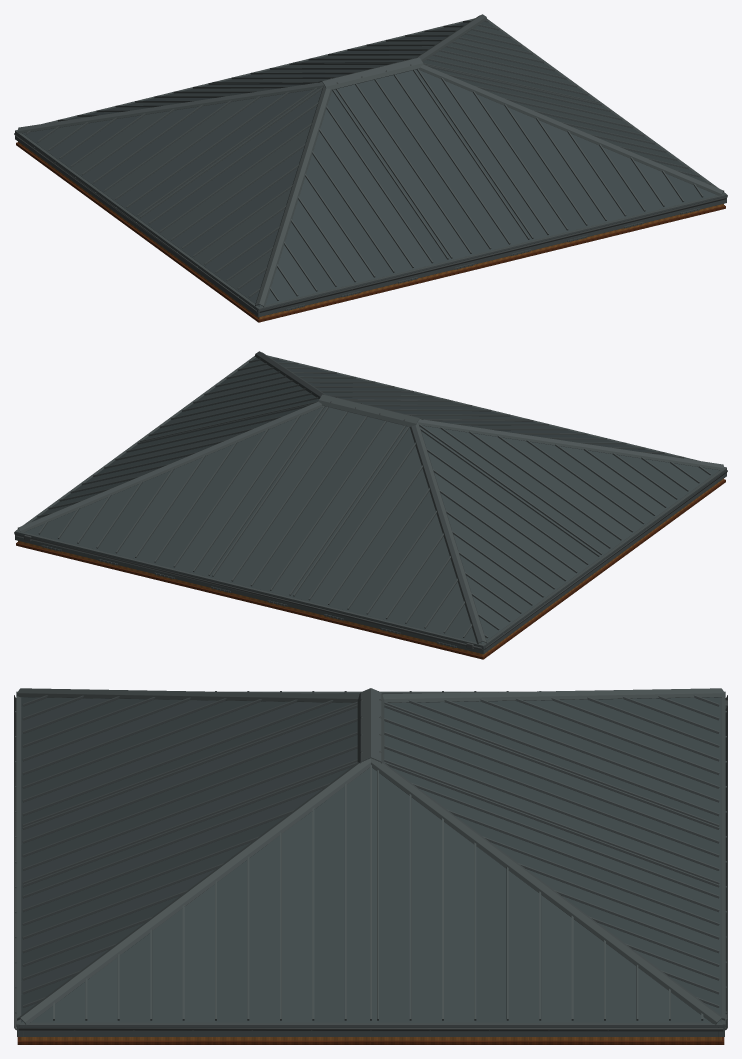
Rendered from Restaurant_RoofRevision.fbx.
The picture shows the model from 3 angles, top to bottom: view 1: azimuth 30°, elevation 25°; view 2: azimuth 150°, elevation 25°; view 3: azimuth 270°, elevation 25°; orthographic projection. The views are drawn at different scales.
Parts seen in each view (by area): view 1: AR_Restaurant, AR_Restaurant_RoofRevision_ContinuousCedarCeiling, AR_Restaurant_RoofRevision_FasciaShadowFrontBack_-1, AR_Restaurant_RoofRevision_FoldedEaveDripFrontBack_-1, AR_Restaurant_RoofRevision_FasciaShadowSide_-1, AR_Restaurant_RoofRevision_OpenGutterFrontBack_-1, AR_Restaurant_RoofRevision_EaveCedarBeamFrontBack_-1, AR_Restaurant_RoofRevision_FoldedEaveDripSide_-1, AR_Restaurant_RoofRevision_FoldedRidgeCap, AR_Restaurant_RoofRevision_OpenGutterSide_-1, AR_Restaurant_RoofRevision_HippedRoofSolidDeck, AR_Restaurant_RoofRevision_EaveCedarBeamSide_-1; view 2: AR_Restaurant, AR_Restaurant_RoofRevision_ContinuousCedarCeiling, AR_Restaurant_RoofRevision_FasciaShadowSide_-1, AR_Restaurant_RoofRevision_FoldedEaveDripSide_-1, AR_Restaurant_RoofRevision_FoldedRidgeCap, AR_Restaurant_RoofRevision_FoldedEaveDripFrontBack_-1, AR_Restaurant_RoofRevision_OpenGutterSide_-1, AR_Restaurant_RoofRevision_HippedRoofSolidDeck, AR_Restaurant_RoofRevision_EaveCedarBeamSide_-1; view 3: AR_Restaurant, AR_Restaurant_RoofRevision_ContinuousCedarCeiling, AR_Restaurant_RoofRevision_FoldedRidgeCap, AR_Restaurant_RoofRevision_FoldedEaveDripFrontBack_-1, AR_Restaurant_RoofRevision_OpenGutterFrontBack_-1, AR_Restaurant_RoofRevision_HippedRoofSolidDeck, AR_Restaurant_RoofRevision_FoldedEaveDripSide_-1.
Part boxes in pixels (x1,y1,x2,y2): AR_Restaurant: (15,14,727,310); AR_Restaurant_RoofRevision_ContinuousCedarCeiling: (16,142,725,322); AR_Restaurant_RoofRevision_FasciaShadowFrontBack_-1: (256,196,726,317); AR_Restaurant_RoofRevision_FoldedEaveDripFrontBack_-1: (257,194,726,310); AR_Restaurant_RoofRevision_FasciaShadowSide_-1: (17,134,255,315); AR_Restaurant_RoofRevision_OpenGutterFrontBack_-1: (259,197,726,312); AR_Restaurant_RoofRevision_EaveCedarBeamFrontBack_-1: (254,204,723,319); AR_Restaurant_RoofRevision_FoldedEaveDripSide_-1: (15,131,258,309); AR_Restaurant_RoofRevision_FoldedRidgeCap: (318,57,423,89); AR_Restaurant_RoofRevision_OpenGutterSide_-1: (14,133,257,312); AR_Restaurant_RoofRevision_HippedRoofSolidDeck: (22,133,716,306); AR_Restaurant_RoofRevision_EaveCedarBeamSide_-1: (21,144,254,315); AR_Restaurant: (14,351,724,656); AR_Restaurant_RoofRevision_ContinuousCedarCeiling: (16,479,725,659); AR_Restaurant_RoofRevision_FasciaShadowSide_-1: (486,471,724,652); AR_Restaurant_RoofRevision_FoldedEaveDripSide_-1: (483,468,726,646); AR_Restaurant_RoofRevision_FoldedRidgeCap: (318,394,423,426); AR_Restaurant_RoofRevision_FoldedEaveDripFrontBack_-1: (267,355,726,468); AR_Restaurant_RoofRevision_OpenGutterSide_-1: (484,470,727,649); AR_Restaurant_RoofRevision_HippedRoofSolidDeck: (25,470,719,643); AR_Restaurant_RoofRevision_EaveCedarBeamSide_-1: (486,482,719,653); AR_Restaurant: (15,688,727,1040); AR_Restaurant_RoofRevision_ContinuousCedarCeiling: (17,1037,724,1044); AR_Restaurant_RoofRevision_FoldedRidgeCap: (357,688,384,763); AR_Restaurant_RoofRevision_FoldedEaveDripFrontBack_-1: (16,691,20,1026); AR_Restaurant_RoofRevision_OpenGutterFrontBack_-1: (14,695,16,1030); AR_Restaurant_RoofRevision_HippedRoofSolidDeck: (22,1021,719,1022); AR_Restaurant_RoofRevision_FoldedEaveDripSide_-1: (224,691,517,693).
Bounding box in the file's own units: 1003 × 218 × 903.
Materials: 9 (2 with a texture image).
